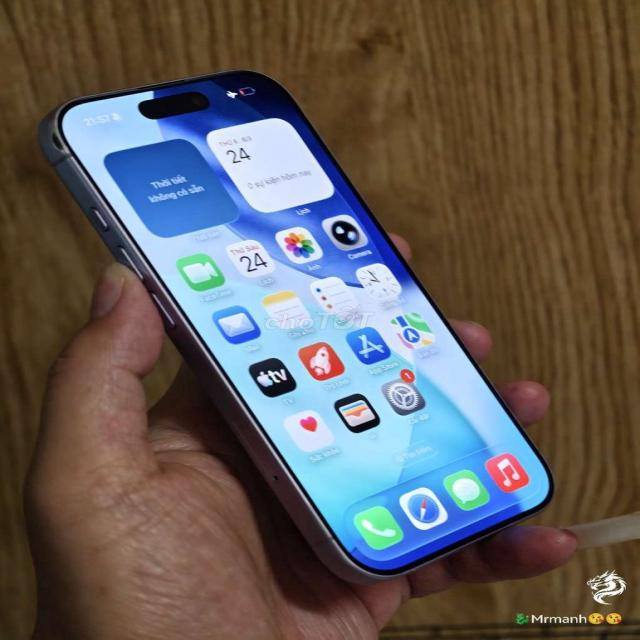gen_17: (35, 61, 575, 577)
